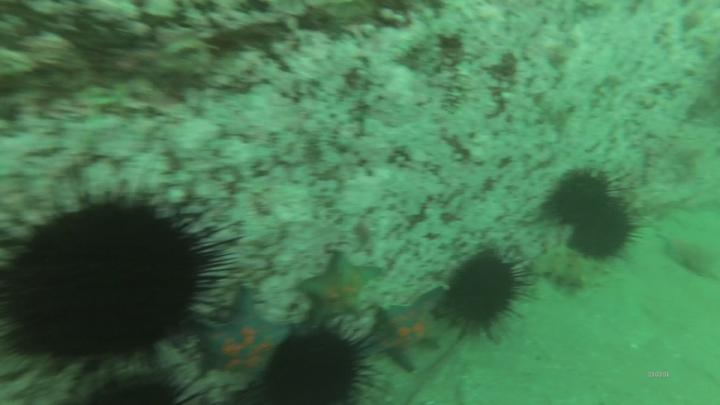echinus: (2, 203, 204, 362), (270, 336, 362, 405), (443, 256, 517, 327), (572, 206, 633, 263), (555, 173, 607, 221)
starfish: (204, 287, 293, 379), (368, 287, 441, 370), (298, 258, 380, 322)
